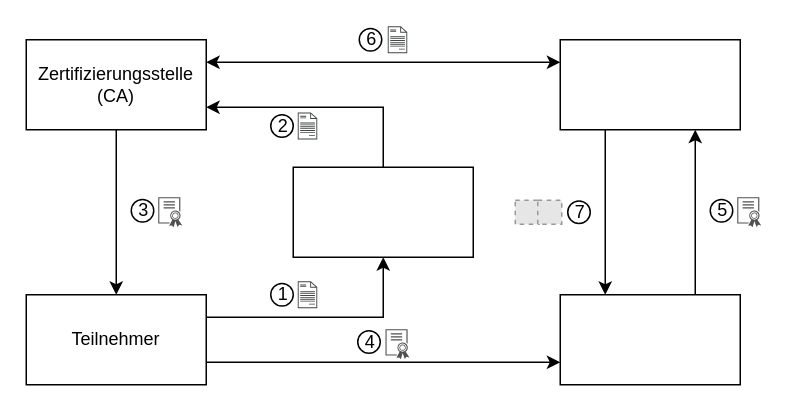
Some shapes in this 788 by 411 pixel diagram are drawn without their labels. Grey dashed boxes stand in for pictures. The centre of each missing label's shape, as x and y in pixels:
"Blockchain System" belongs at point 649,339.
"Registrierungsstelle (RA)" belongs at point 382,211.
"Validierungsstelle (VA)" belongs at point 649,84.
